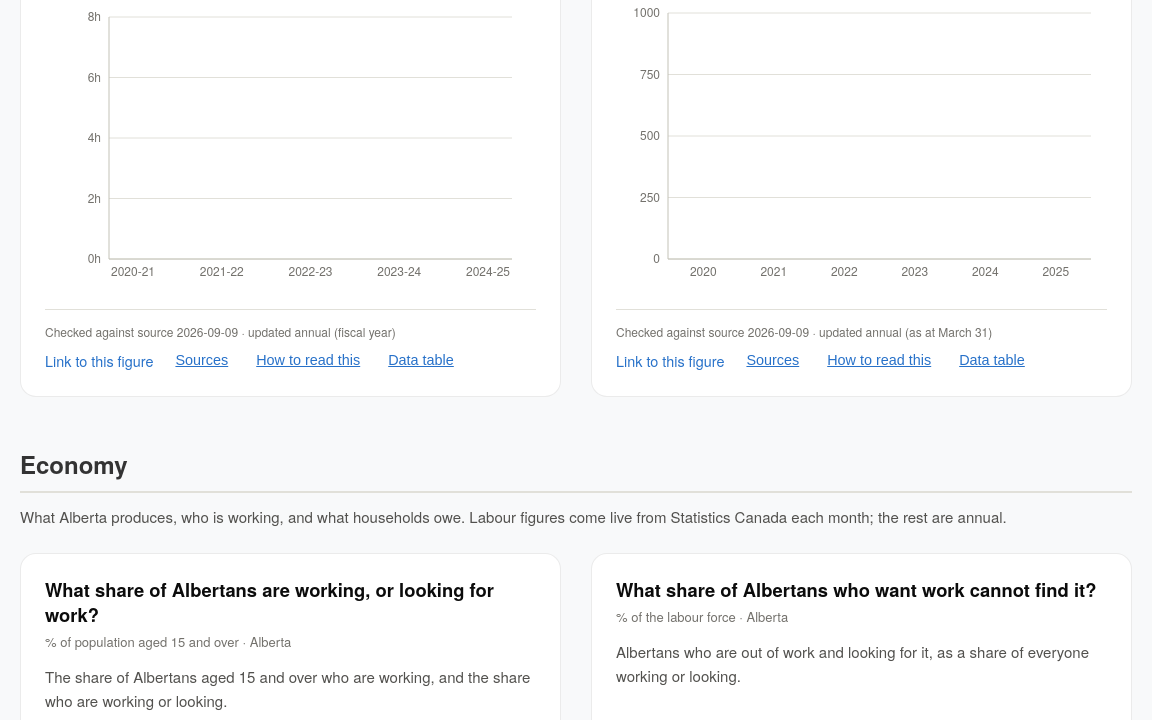
dashboard › reveals the numbers behind a figure
(page scrolled)
Step 1. Click the 1st button "Data table" → click(421, 360), box [382, 349, 460, 372]
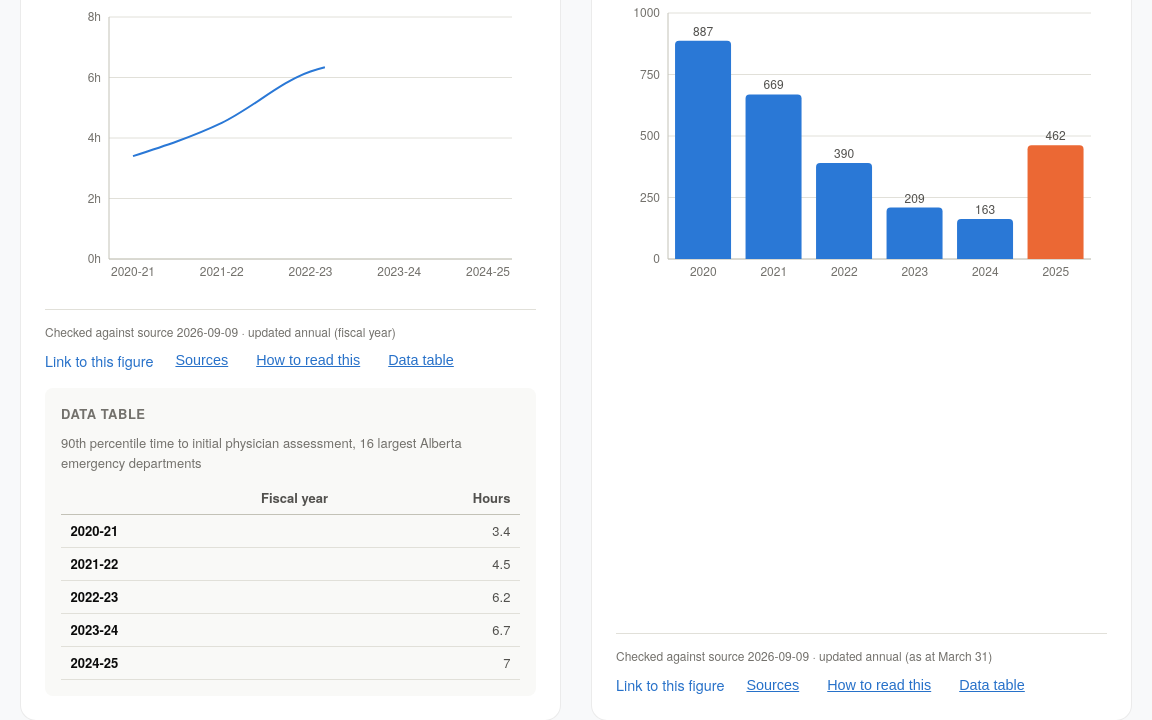
Now the column heading "2024-25" is shown, box [61, 647, 338, 680]
Now the text "7" is shown, box [338, 647, 520, 680]
